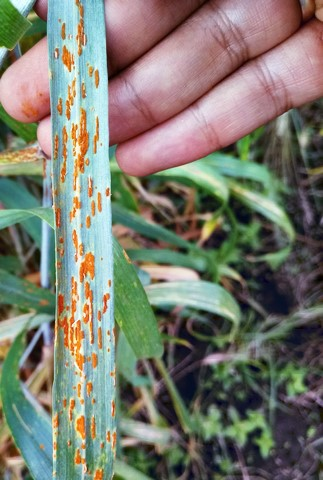Leaf Rust: (42, 18, 124, 470)
